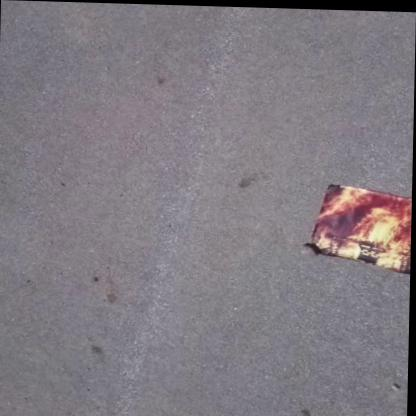fire-poster: (301, 179, 412, 274)
